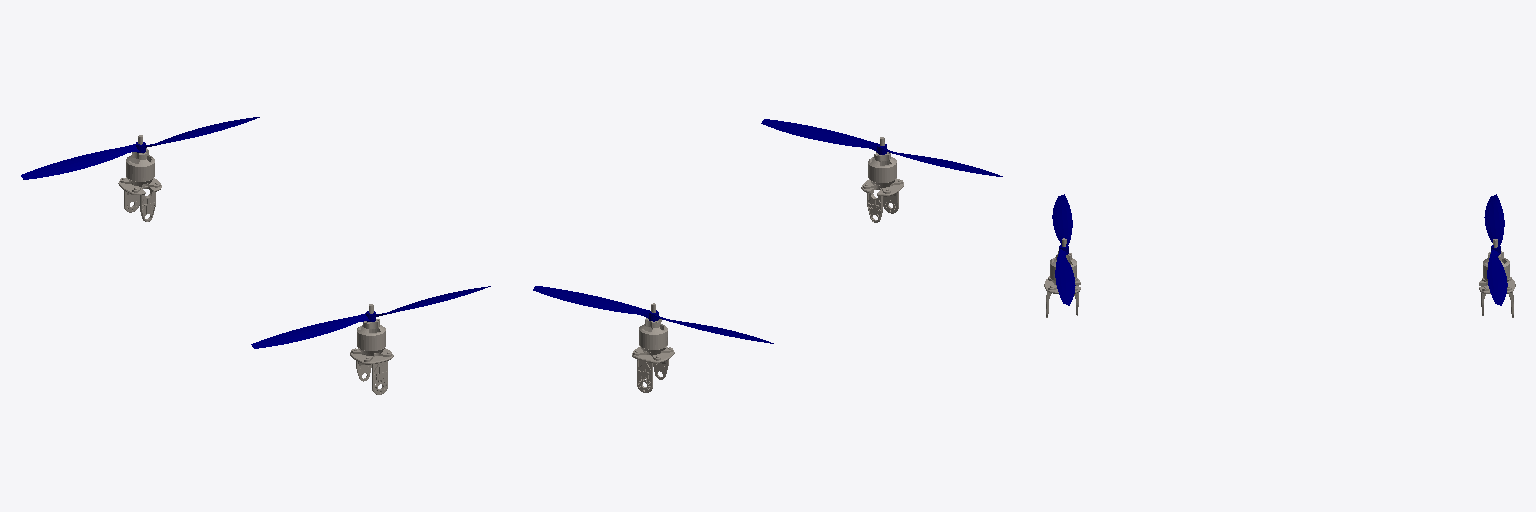
robot.urdf — tilt:
<robot
  name="tilt">
  <link
    name="corpo">
    <inertial>
      <origin
        xyz="0.00256429700632625 -0.00177063953172816 -0.0184675483937402"
        rpy="0 0 0" />
      <mass
        value="1.908310289141" />
      <inertia
        ixx="0.0684037032869774"
        ixy="5.36618171598915E-05"
        ixz="-0.000361771022313387"
        iyy="0.00789097264105409"
        iyz="-0.000218363389363015"
        izz="0.0650790672422852" />
    </inertial>
    <visual>
      <origin
        xyz="0 0 0"
        rpy="0 0 0" />
      <geometry>
        <mesh
          filename="package://tilt/meshes/corpo.STL" />
      </geometry>
      <material
        name="">
        <color
          rgba="0.792156862745098 0.819607843137255 0.933333333333333 1" />
      </material>
    </visual>
    <collision>
      <origin
        xyz="0 0 0"
        rpy="0 0 0" />
      <geometry>
        <mesh
          filename="package://tilt/meshes/corpo.STL" />
      </geometry>
    </collision>
  </link>
  <link
    name="servodir">
    <inertial>
      <origin
        xyz="-1.64500973065911E-05 -0.000256941591331994 0.0561664766143311"
        rpy="0 0 0" />
      <mass
        value="0.0713136390603168" />
      <inertia
        ixx="3.14771600689694E-05"
        ixy="1.2649483825246E-09"
        ixz="-4.92425079055472E-09"
        iyy="3.02767255246939E-05"
        iyz="6.44165288529201E-07"
        izz="1.44224289717711E-05" />
    </inertial>
    <visual>
      <origin
        xyz="0 0 0"
        rpy="0 0 0" />
      <geometry>
        <mesh
          filename="package://tilt/meshes/servodir.STL" />
      </geometry>
      <material
        name="">
        <color
          rgba="0.647058823529412 0.619607843137255 0.588235294117647 1" />
      </material>
    </visual>
    <!--<collision>
      <origin
        xyz="0 0 0"
        rpy="0 0 0" />
      <geometry>
        <mesh
          filename="package://tilt/meshes/servodir.STL" />
      </geometry>
    </collision>-->
  </link>
  <joint
    name="aR"
    type="revolute">
    <origin
      xyz="-1.8271804286945E-05 -0.277611425055307 0.0549286993075094"
      rpy="-0.0261799241453877 0.000147944076641961 9.98008905062241E-05" />
    <parent
      link="corpo" />
    <child
      link="servodir" />
    <axis
      xyz="-9.98351002423385E-05 -0.999999995016477 0" />
    <limit
      lower="-1"
      upper="1"
      effort="10"
      velocity="10" />
  </joint>
  <link
    name="helicedir">
    <inertial>
      <origin
        xyz="-4.0634359135816E-07 6.58528663266544E-08 3.43719603196346E-07"
        rpy="0 0 0" />
      <mass
        value="0.00963319741474509" />
      <inertia
        ixx="1.308397044181E-06"
        ixy="-8.47880273863235E-06"
        ixz="1.9877604516713E-08"
        iyy="6.74789344924412E-05"
        iyz="-2.50764833601657E-09"
        izz="6.8755269236743E-05" />
    </inertial>
    <visual>
      <origin
        xyz="0 0 0"
        rpy="0 0 0" />
      <geometry>
        <mesh
          filename="package://tilt/meshes/helicedir.STL" />
      </geometry>
      <material
        name="">
        <color
          rgba="0 0 0.501960784313725 1" />
      </material>
    </visual>
    <!--<collision>
      <origin
        xyz="0 0 0"
        rpy="0 0 0" />
      <geometry>
        <mesh
          filename="package://tilt/meshes/helicedir.STL" />
      </geometry>
    </collision>-->
  </link>
  <joint
    name="thrustdir"
    type="continuous">
    <origin
      xyz="-2.45642483141821E-05 0 0.0839999964083198"
      rpy="3.46944695195361E-18 -8.67361737988404E-19 0.144577399017787" />
    <parent
      link="servodir" />
    <child
      link="helicedir" />
    <axis
      xyz="-0.000289376348141932 4.21607435364194E-05 0.9999999572419" />
    <limit
      lower="-1"
      upper="1"
      effort="10"
      velocity="10" />
  </joint>
  <link
    name="servoesq">
    <inertial>
      <origin
        xyz="-2.82612327927832E-08 0.000256943227470385 0.0561664790038414"
        rpy="0 0 0" />
      <mass
        value="0.0713136390866666" />
      <inertia
        ixx="3.1477162082576E-05"
        ixy="1.20327524589434E-09"
        ixz="7.10577313122764E-11"
        iyy="3.02767250419788E-05"
        iyz="-6.44164425496491E-07"
        izz="1.44224275166197E-05" />
    </inertial>
    <visual>
      <origin
        xyz="0 0 0"
        rpy="0 0 0" />
      <geometry>
        <mesh
          filename="package://tilt/meshes/servoesq.STL" />
      </geometry>
      <material
        name="">
        <color
          rgba="0.647058823529412 0.619607843137255 0.588235294117647 1" />
      </material>
    </visual>
    <!--<collision>
      <origin
        xyz="0 0 0"
        rpy="0 0 0" />
      <geometry>
        <mesh
          filename="package://tilt/meshes/servoesq.STL" />
      </geometry>
    </collision>-->
  </link>
  <joint
    name="aL"
    type="revolute">
    <origin
      xyz="0.000774317061806635 0.277601419719204 0.0549353011331433"
      rpy="0.0264243899580086 -0.000142465393102244 -0.000108408934057588" />
    <parent
      link="corpo" />
    <child
      link="servoesq" />
    <axis
      xyz="-0.000108446791897333 0.999999994119647 0" />
    <limit
      lower="-1"
      upper="1"
      effort="10"
      velocity="10" />
  </joint>
  <link
    name="heliceesq">
    <inertial>
      <origin
        xyz="-4.03612904903428E-07 -5.57232281428455E-08 3.43842413264017E-07"
        rpy="0 0 0" />
      <mass
        value="0.00963319729836474" />
      <inertia
        ixx="2.27163710542979E-06"
        ixy="1.160606543528E-05"
        ixz="3.54072262575423E-12"
        iyy="6.65156885018562E-05"
        iyz="9.15946817171114E-13"
        izz="6.87552750096705E-05" />
    </inertial>
    <visual>
      <origin
        xyz="0 0 0"
        rpy="0 0 0" />
      <geometry>
        <mesh
          filename="package://tilt/meshes/heliceesq.STL" />
      </geometry>
      <material
        name="">
        <color
          rgba="0 0 0.501960784313725 1" />
      </material>
    </visual>
    <!--<collision>
      <origin
        xyz="0 0 0"
        rpy="0 0 0" />
      <geometry>
        <mesh
          filename="package://tilt/meshes/heliceesq.STL" />
      </geometry>
    </collision>-->
  </link>
  <joint
    name="thrustesq"
    type="continuous">
    <origin
      xyz="0 0 0.0840000000000002"
      rpy="-3.33066907387547E-16 9.873178663522E-15 -0.154008614760551" />
    <parent
      link="servoesq" />
    <child
      link="heliceesq" />
    <axis
      xyz="0 0 1" />
    <limit
      lower="-1"
      upper="1"
      effort="10"
      velocity="10" />
  </joint>


	
  <gazebo>
	    <plugin name="quadrotor_imu_sim" filename="libhector_gazebo_ros_imu.so">
	      <updateRate>100.0</updateRate>
	      <bodyName>corpo</bodyName>
	      <frameId>corpo</frameId>
	      <topicName>raw_imu</topicName>
	      <rpyOffsets>0 0 0</rpyOffsets> 
	      <gaussianNoise>0</gaussianNoise>  
	      <accelDrift>0.5 0.5 0.5</accelDrift>
	      <accelGaussianNoise>0.35 0.35 0.3</accelGaussianNoise>
	      <rateDrift>0.1 0.1 0.1</rateDrift>
	      <rateGaussianNoise>0.05 0.05 0.015</rateGaussianNoise>
	    </plugin>

	    <plugin name="quadrotor_magnetic_sim" filename="libhector_gazebo_ros_magnetic.so">
	      <updateRate>10.0</updateRate>
	      <bodyName>corpo</bodyName>
	      <frameId>corpo</frameId>
	      <topicName>magnetic</topicName>
	      <offset>0 0 0</offset>
	      <drift>0.0 0.0 0.0</drift>
	      <gaussianNoise>1.3e-2 1.3e-2 1.3e-2</gaussianNoise>
	    </plugin>

	    <plugin name="quadrotor_gps_sim" filename="libhector_gazebo_ros_gps.so">
	      <updateRate>4.0</updateRate>
	      <bodyName>corpo</bodyName>
	      <frameId>corpo</frameId>
	      <topicName>gps</topicName>
	      <velocityTopicName>fix_velocity</velocityTopicName>
	      <referenceLatitude>0</referenceLatitude>
	      <referenceLongitude>0</referenceLongitude>
	      <drift>5.0 5.0 5.0</drift>
	      <gaussianNoise>0.01 0.01 0.01</gaussianNoise>
	      <velocityDrift>0 0 0</velocityDrift>
	      <velocityGaussianNoise>0.05 0.05 0.05</velocityGaussianNoise>
	    </plugin>

	    <plugin name="quadrotor_groundtruth_sim" filename="libgazebo_ros_p3d.so">
	      <updateRate>100.0</updateRate>
	      <bodyName>corpo</bodyName>
	      <topicName>ground_truth/state</topicName>
	      <gaussianNoise>0.0</gaussianNoise>
	      <frameName>world</frameName>
	    </plugin>
	</gazebo>

    <link name="ultrassom_link">
      <inertial>
        <mass value="0.001" />
        <origin xyz="0 0 0" rpy="0 0 0" />
        <inertia ixx="0.000000017" ixy="0" ixz="0" iyy="0.000000017" iyz="0" izz="0.000000017" />
      </inertial>
      <visual>
        <origin xyz="0 0 0" rpy="0 0 0" />
        <geometry>
          <mesh filename="package://hector_sensors_description/meshes/sonar_sensor/max_sonar_ez4.dae"/>
        </geometry>
      </visual>
    </link>

    <joint name="ultrassom_joint" type="fixed">
      <origin xyz="0 0 -0.12" rpy="0 1.57 0" />
      <parent link="corpo"/>
      <child link="ultrassom_link"/>
    </joint>

    <gazebo reference="ultrassom_link">
      <sensor type="ray" name="ultrassom">
        <always_on>true</always_on>
        <update_rate>100</update_rate>
        <pose>0 0 0 0 0 0</pose>
        <visualize>false</visualize>
        <ray>
          <scan>
            <horizontal>
              <samples>100</samples>
              <resolution>1</resolution>
              <min_angle>-1</min_angle>
              <max_angle> 1</max_angle>
            </horizontal>
            <vertical>
              <samples>100</samples>
              <resolution>1</resolution>
              <min_angle>-1</min_angle>
              <max_angle> 1</max_angle>
            </vertical>
          </scan>
          <range>
            <min>10</min>
            <max>50</max>
            <resolution>0.01</resolution>
          </range>
        </ray>
	

        <plugin name="gazebo_ros_ultrassom_controller" filename="libhector_gazebo_ros_sonar.so">
          <gaussianNoise>0.005</gaussianNoise>
          <topicName>ultrassom</topicName>
          <frameId>ultrassom_link</frameId>
        </plugin>
      </sensor>

	</gazebo>

 <gazebo>
    
	<plugin name="thrustleftteste" filename="libservo_motor_plugin.so">
	<NameOfNode> Teste </NameOfNode>	
	<NameOfJoint> thrustesq </NameOfJoint>
	<TopicSubscriber> RefThrustesq </TopicSubscriber>
	<TopicPublisher>  SensorThrustesq </TopicPublisher>
	<Kpx> 0.01 </Kpx>
	<Kpv> 0.01 </Kpv>
	<Kix> 0.01 </Kix>
	<Kiv> 0.01 </Kiv>
	<Kdx> 0.01 </Kdx>
	<Kdv> 0.01 </Kdv>
	<Modo> Velocidade </Modo>
	</plugin>

	<plugin name="thrustrightteste" filename="libservo_motor_plugin.so">
	<NameOfNode> Teste2 </NameOfNode>
	<NameOfJoint> thrustdir </NameOfJoint>
	<TopicSubscriber> RefThrustdir </TopicSubscriber>
	<TopicPublisher> SensorThrustdir </TopicPublisher>
	<Kpx> 0.01 </Kpx>
	<Kpv> 0.01 </Kpv>
	<Kix> 0.01 </Kix>
	<Kiv> 0.01 </Kiv>
	<Kdx> 0.01 </Kdx>
	<Kdv> 0.01 </Kdv>
	<Modo> Velocidade </Modo>
	</plugin>

	<plugin name="aLteste" filename="libservo_motor_plugin.so">
	<NameOfNode> Teste3 </NameOfNode>	
	<NameOfJoint> aL </NameOfJoint>
	<TopicSubscriber> RefaL </TopicSubscriber>
	<TopicPublisher>  SensoraL </TopicPublisher>
	<Kpx> 4 </Kpx>
	<Kpv> 0.01 </Kpv>
	<Kix> 0 </Kix>
	<Kiv> 0 </Kiv>
	<Kdx> 0.01 </Kdx>
	<Kdv> 0.01 </Kdv>
	<Modo> Posição </Modo>
	</plugin>

	<plugin name="aRteste" filename="libservo_motor_plugin.so">
	<NameOfNode> Teste4 </NameOfNode>	
	<NameOfJoint> aR </NameOfJoint>
	<TopicSubscriber> RefaR </TopicSubscriber>
	<TopicPublisher>  SensoraR </TopicPublisher>
	<Kpx> 4 </Kpx>
	<Kpv> 0.01 </Kpv>
	<Kix> 0 </Kix>
	<Kiv> 0 </Kiv>
	<Kdx> 0.01 </Kdx>
	<Kdv> 0.01 </Kdv>
	<Modo> Posição </Modo>
	</plugin>
	</gazebo>

	<gazebo>
	<plugin name="propeller_direito" filename="libaerodinamica_plugin.so">
	<ka> 1 </ka>
	<kb> 1 </kb>
	<topic_VR> /Teste2/SensorThrustdir </topic_VR>
	<topic_VL> /Teste/SensorThrustesq </topic_VL>
	<NameOfNode> propeller_direito </NameOfNode>
	<LinkDir> helicedir </LinkDir>
	<LinkEsq> heliceesq </LinkEsq>					
    	</plugin>
	</gazebo>

</robot>

--- What the picture shows (computed from the rendered views, not written in the file) ---
3 views of the same robot in one strip: view 1: azimuth 30°, elevation 25°; view 2: azimuth 150°, elevation 25°; view 3: azimuth 270°, elevation 25° (orthographic).
Model tilt with 6 links and 5 joints (2 revolute, 2 continuous, 1 fixed), rooted at corpo, posed all joints at 0.
Visible links, largest first — view 1: servodir, heliceesq, servoesq, helicedir; view 2: servoesq, helicedir, servodir, heliceesq; view 3: helicedir, heliceesq, servodir, servoesq.
Boxes of the visible links, x1=… form: servodir: x1=350, y1=304, x2=393, y2=394; heliceesq: x1=21, y1=117, x2=259, y2=179; servoesq: x1=118, y1=135, x2=161, y2=221; helicedir: x1=251, y1=286, x2=490, y2=348; servoesq: x1=632, y1=303, x2=674, y2=392; helicedir: x1=761, y1=119, x2=1002, y2=176; servodir: x1=861, y1=137, x2=903, y2=222; heliceesq: x1=533, y1=286, x2=773, y2=343; helicedir: x1=1052, y1=194, x2=1075, y2=305; heliceesq: x1=1484, y1=194, x2=1507, y2=305; servodir: x1=1044, y1=238, x2=1080, y2=317; servoesq: x1=1479, y1=239, x2=1515, y2=317.
Bounding box of the posed robot: 0.3311 × 0.6005 × 0.1091 m (x, y, z).
Meshes: 6 distinct files referenced, 4 mesh visuals loaded (4 binary STL); not drawn: 2 (reference not matched to a file when rendering).
